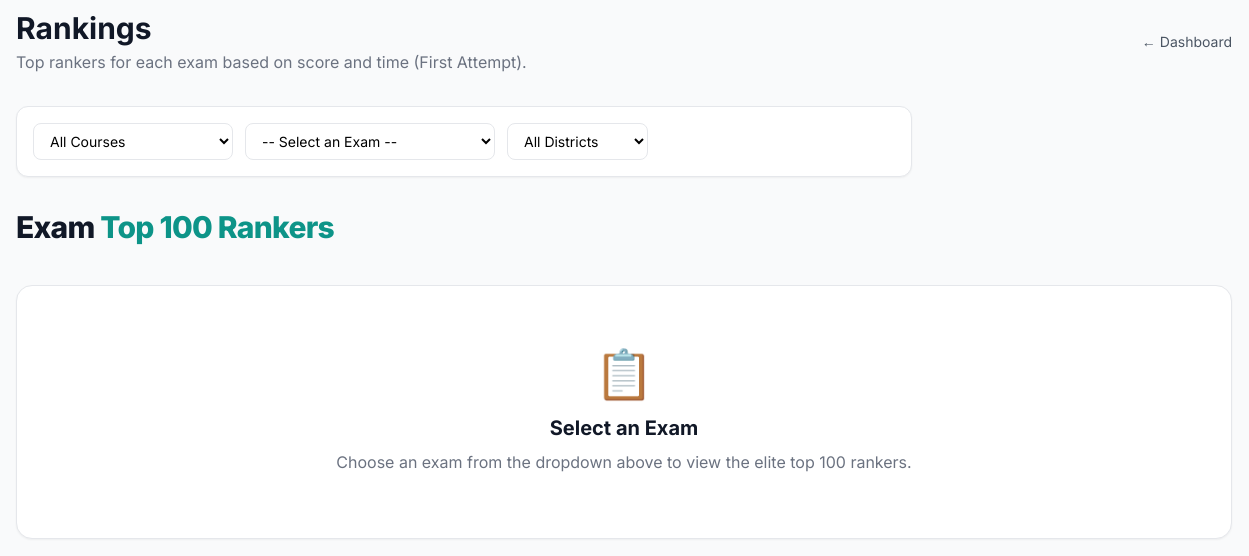
it: Rankings page › refetches for a district and clears filters
Select "Chem Paper 1" in the 2nd dropdown at {"x": 370, "y": 142}, box [245, 123, 495, 160]
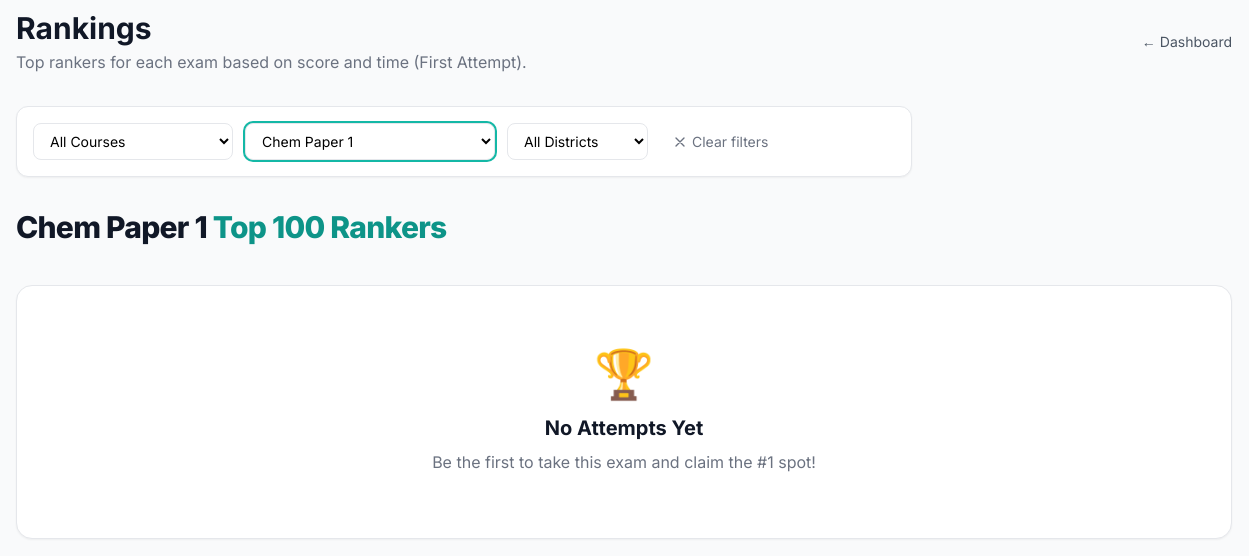
Now the heading "No Attempts Yet" is shown, box [545, 416, 703, 440]
Select "Kandy" in the 3rd dropdown at {"x": 578, "y": 142}, box [507, 123, 648, 160]
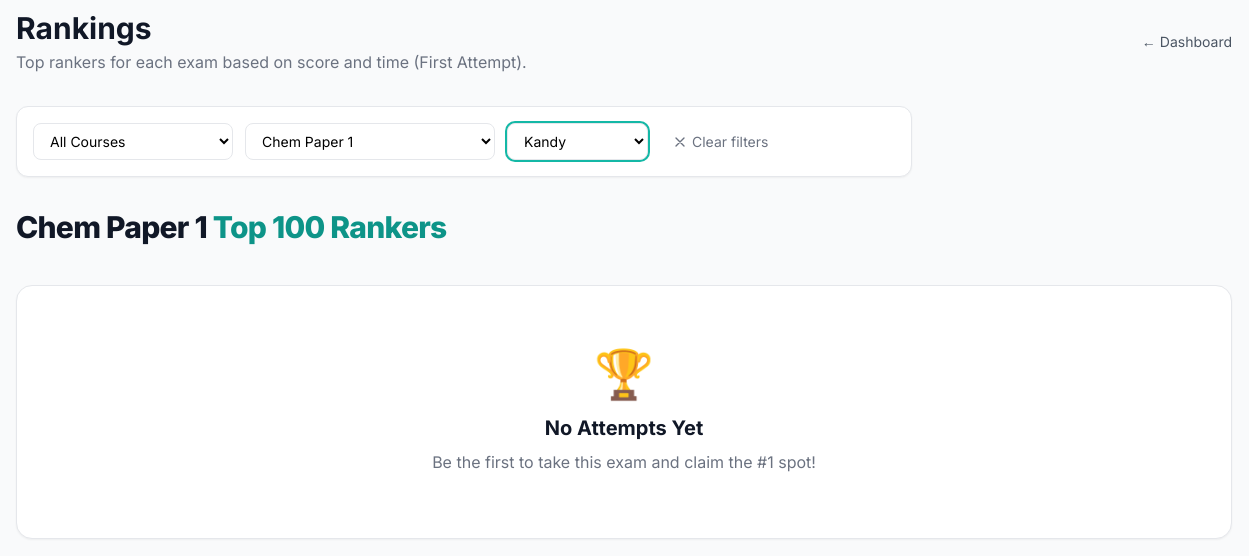
Click the button "Clear filters" at {"x": 720, "y": 142}, box [660, 123, 780, 160]
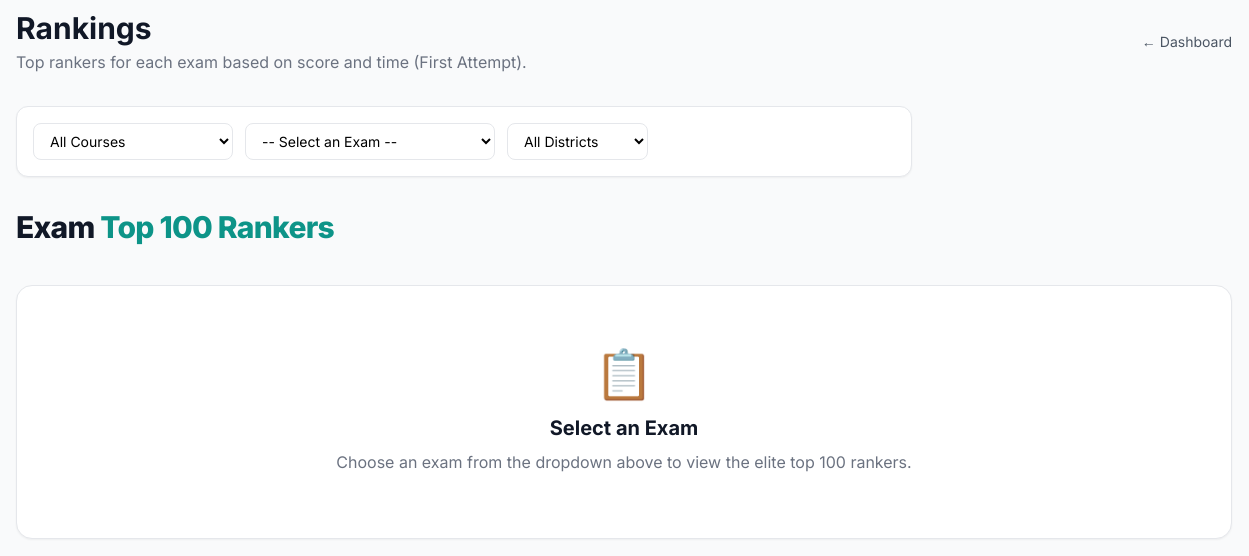
Now the heading "Select an Exam" is shown, box [550, 416, 698, 440]
